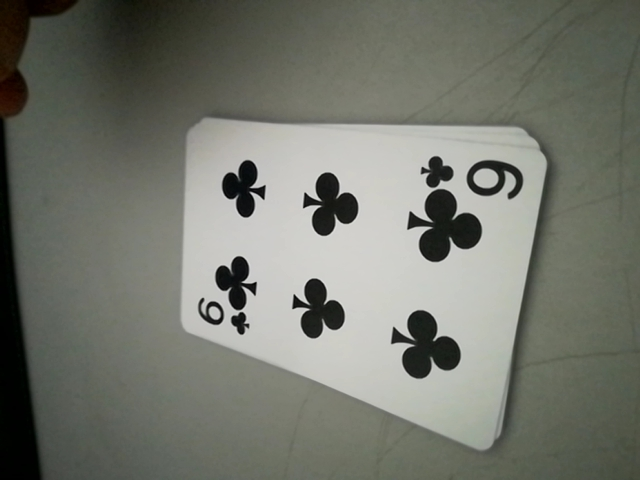mh 6: (419, 154, 529, 198), (191, 299, 252, 342)
